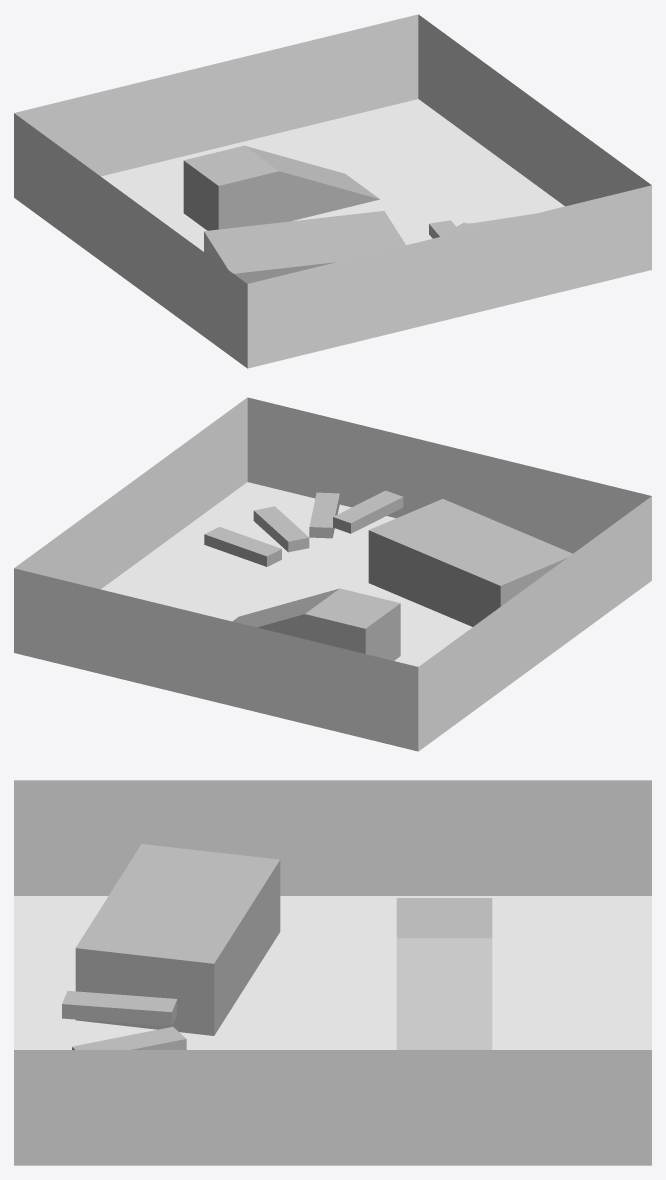
Rendered from nk_neo.obj.
The picture shows the model from 3 angles, top to bottom: view 1: azimuth 30°, elevation 25°; view 2: azimuth 150°, elevation 25°; view 3: azimuth 270°, elevation 25°; orthographic projection. The views are drawn at different scales.
Parts seen in each view (by area): view 1: Plane.002, Plane.004, Plane, Plane.003, Plane.001, Cube.001_Cube.003, Cube.002_Cube.004, Cube.003_Cube.005; view 2: Plane.004, Plane.002, Plane, Plane.003, Plane.001, Cube.001_Cube.003, Cube.002_Cube.004, Cube.003_Cube.005, Cube, Cube.006_Cube.009, Cube.004_Cube.006, Cube.005_Cube.007; view 3: Plane.001, Plane.003, Plane, Cube.001_Cube.003, Cube.003_Cube.005, Cube.002_Cube.004, Cube.006_Cube.009, Cube.005_Cube.007.
Part boxes in pixels (x1=…): Plane.002: x1=247, y1=185, x2=651, y2=368; Plane.004: x1=14, y1=14, x2=418, y2=176; Plane: x1=101, y1=99, x2=564, y2=251; Plane.003: x1=14, y1=113, x2=247, y2=368; Plane.001: x1=418, y1=14, x2=651, y2=206; Cube.001_Cube.003: x1=204, y1=211, x2=405, y2=283; Cube.002_Cube.004: x1=183, y1=145, x2=279, y2=230; Cube.003_Cube.005: x1=245, y1=146, x2=379, y2=222; Plane.004: x1=14, y1=568, x2=418, y2=751; Plane.002: x1=247, y1=397, x2=651, y2=553; Plane: x1=101, y1=482, x2=472, y2=666; Plane.003: x1=418, y1=496, x2=651, y2=751; Plane.001: x1=14, y1=397, x2=247, y2=589; Cube.001_Cube.003: x1=368, y1=499, x2=572, y2=626; Cube.002_Cube.004: x1=305, y1=588, x2=400, y2=660; Cube.003_Cube.005: x1=232, y1=588, x2=339, y2=639; Cube: x1=204, y1=527, x2=281, y2=566; Cube.006_Cube.009: x1=333, y1=490, x2=403, y2=533; Cube.004_Cube.006: x1=253, y1=506, x2=309, y2=552; Cube.005_Cube.007: x1=309, y1=492, x2=339, y2=538; Plane.001: x1=14, y1=1050, x2=651, y2=1165; Plane.003: x1=14, y1=780, x2=651, y2=895; Plane: x1=14, y1=896, x2=651, y2=1049; Cube.001_Cube.003: x1=75, y1=844, x2=280, y2=1035; Cube.003_Cube.005: x1=396, y1=938, x2=492, y2=1049; Cube.002_Cube.004: x1=396, y1=898, x2=492, y2=938; Cube.006_Cube.009: x1=62, y1=991, x2=177, y2=1026; Cube.005_Cube.007: x1=72, y1=1026, x2=186, y2=1049.
Bounding box in the file's own units: 40 × 8 × 40.
